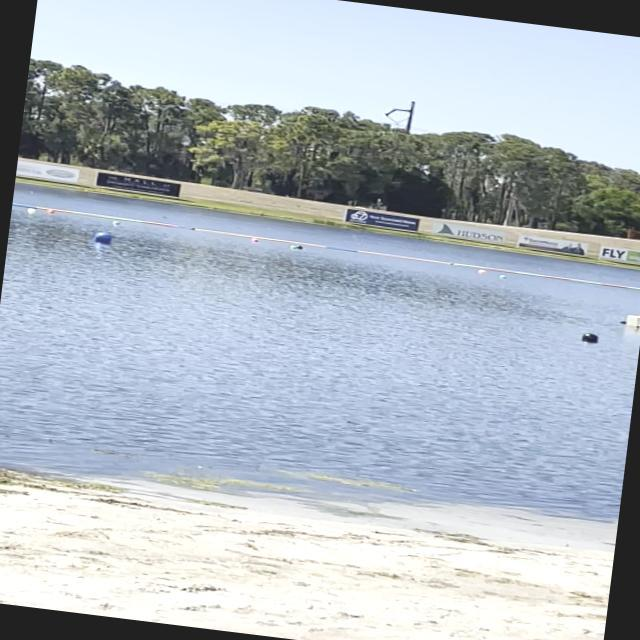buoy: (580, 331, 600, 344), (94, 230, 115, 242), (250, 236, 258, 242), (112, 220, 119, 226), (499, 274, 506, 280), (27, 207, 35, 212), (478, 268, 484, 274), (46, 208, 53, 213), (290, 244, 294, 250)
